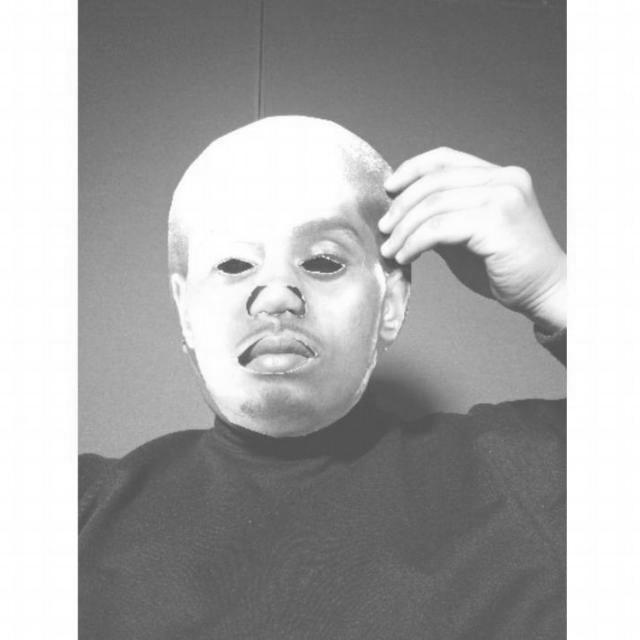fake: (167, 112, 422, 440)
